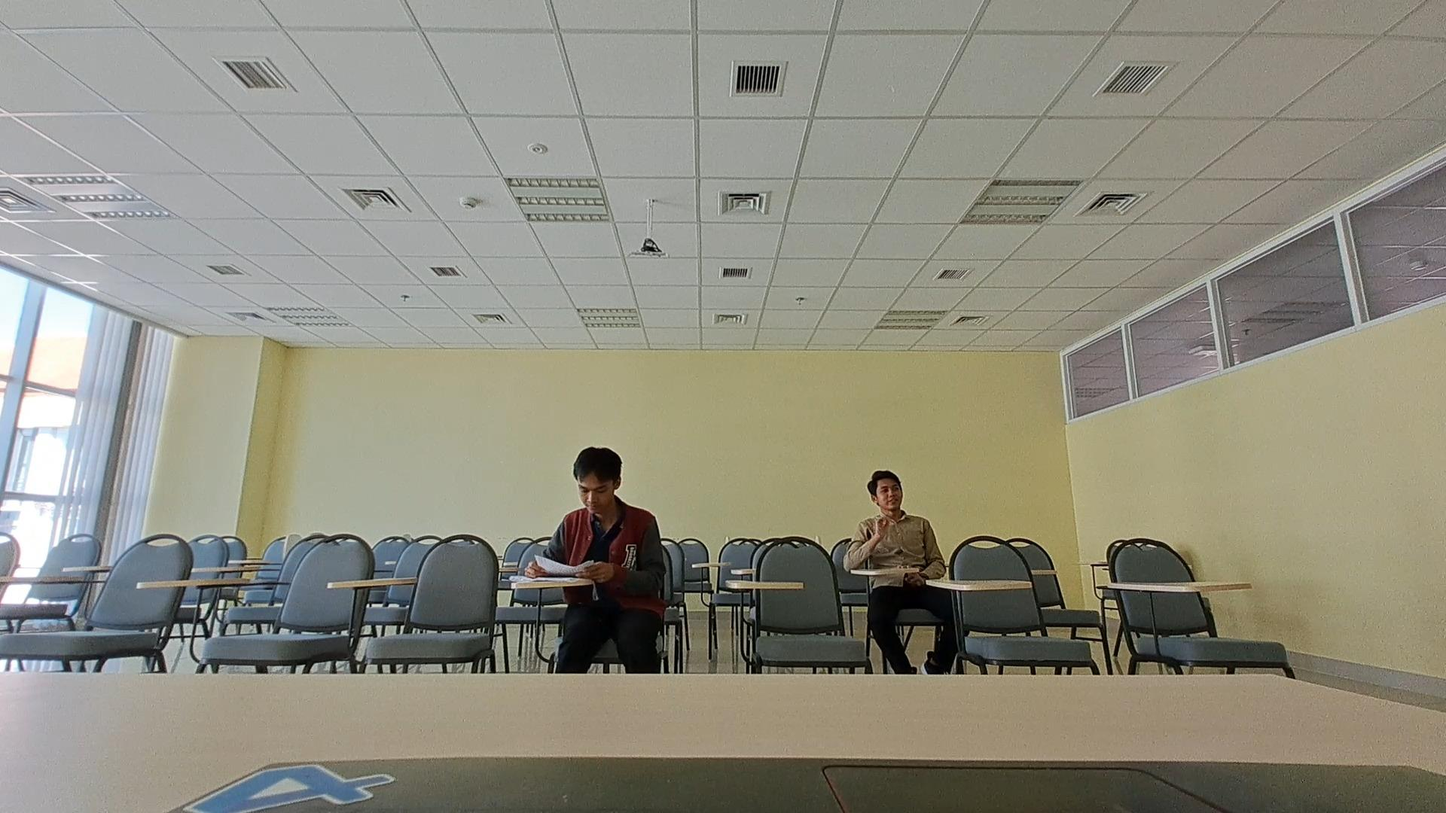study: (523, 443, 665, 589), (846, 465, 945, 574)
